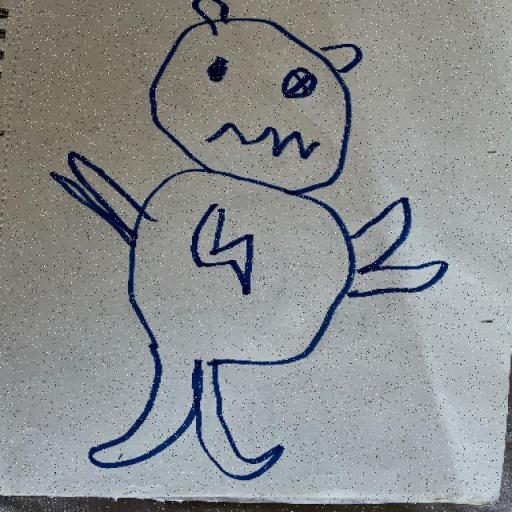person: (45, 0, 449, 481)
